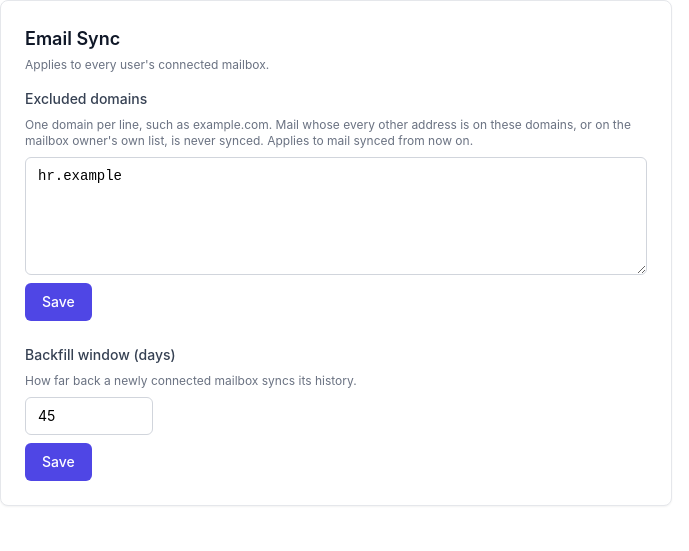
Test: EmailSyncSettings › refuses a window of 0
expect the text box with test id "email-sync-excluded-domains-input" is shown: met, box [25,157,647,275]
Replace the text in the number field with test id "email-sync-backfill-days-input" with "0". click: [89, 416]
box: [25,397,153,435]
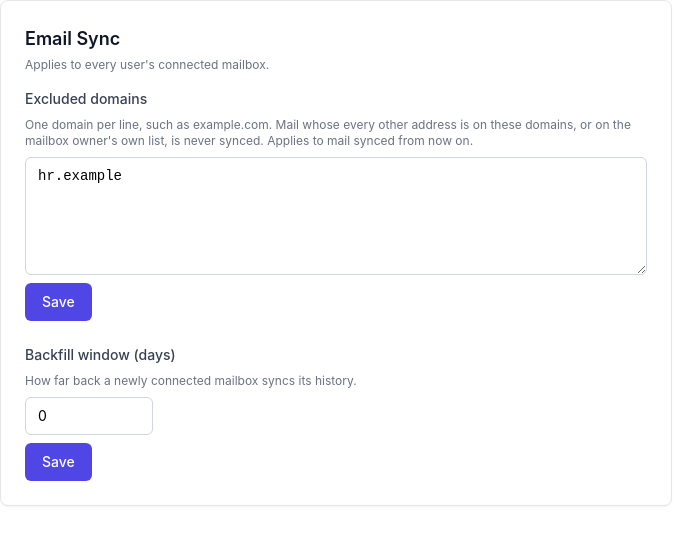
Click the button with test id "email-sync-days-save". click: [58, 462]
box: [25,443,92,481]
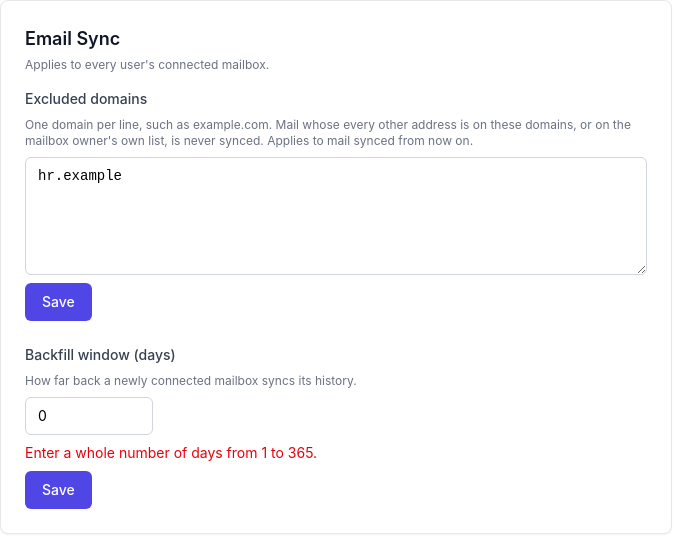
expect the message "Enter a whole number of days from 1 to 365." is shown: met, box [25,444,317,461]
